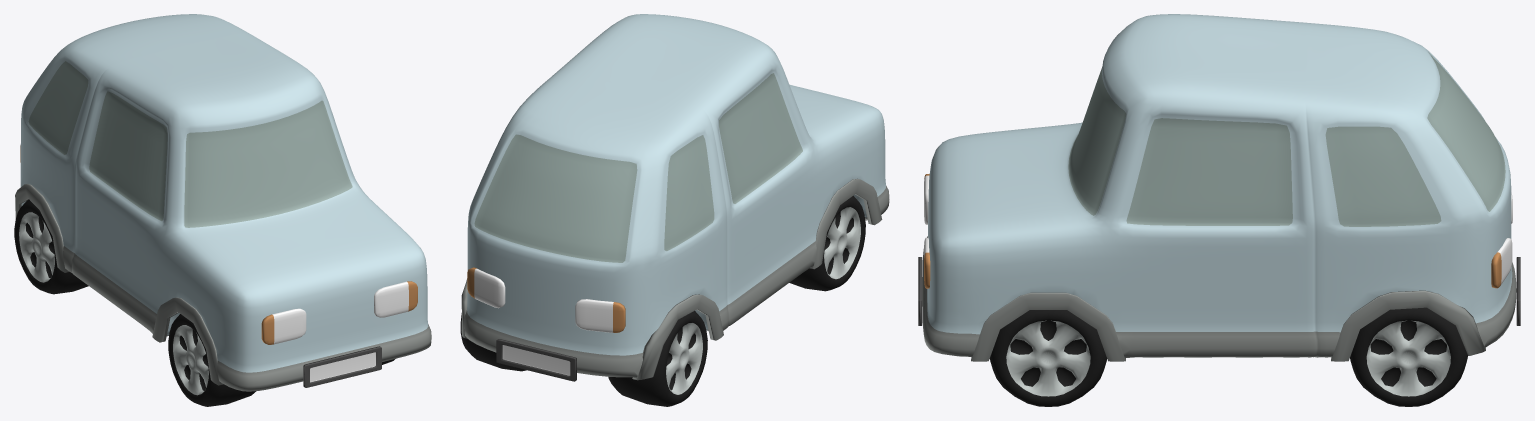
Rendered from car2-2fixed.fbx.
The picture shows the model from 3 angles, left to right: view 1: azimuth 30°, elevation 25°; view 2: azimuth 150°, elevation 25°; view 3: azimuth 270°, elevation 25°; orthographic projection. The views are drawn at different scales.
Visible parts, largest first — view 1: Cube, Cylinder.008, Cylinder.002, Cube.005, Cube.003; view 2: Cube, Cylinder.008, Cylinder.002, Cube.005, Cube.003; view 3: Cube, Cylinder.008, Cylinder.002, Cube.005, Cube.003.
Part boxes in pixels (box(x1,y1,x2,y2)): Cube: box(20, 14, 431, 391); Cylinder.008: box(14, 199, 394, 406); Cylinder.002: box(15, 184, 223, 385); Cube.005: box(20, 145, 417, 344); Cube.003: box(303, 346, 381, 387); Cube: box(464, 14, 889, 377); Cylinder.008: box(460, 195, 865, 406); Cylinder.002: box(461, 178, 882, 380); Cube.005: box(467, 267, 625, 332); Cube.003: box(496, 339, 576, 381); Cube: box(922, 14, 1516, 357); Cylinder.008: box(989, 307, 1467, 406); Cylinder.002: box(971, 290, 1485, 361); Cube.005: box(924, 174, 1512, 288); Cube.003: box(918, 257, 1520, 325).
Bounding box in the file's own units: 379 × 462 × 816.
